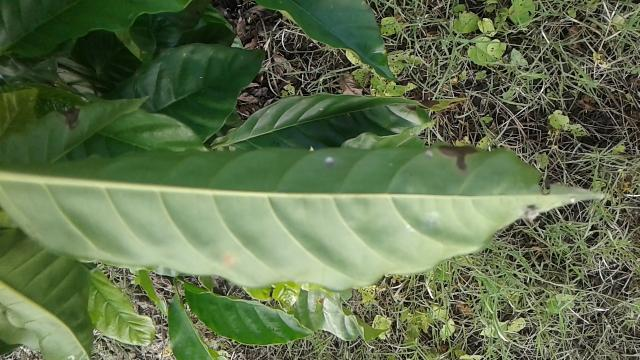rust_level_1: (0, 140, 622, 297)
